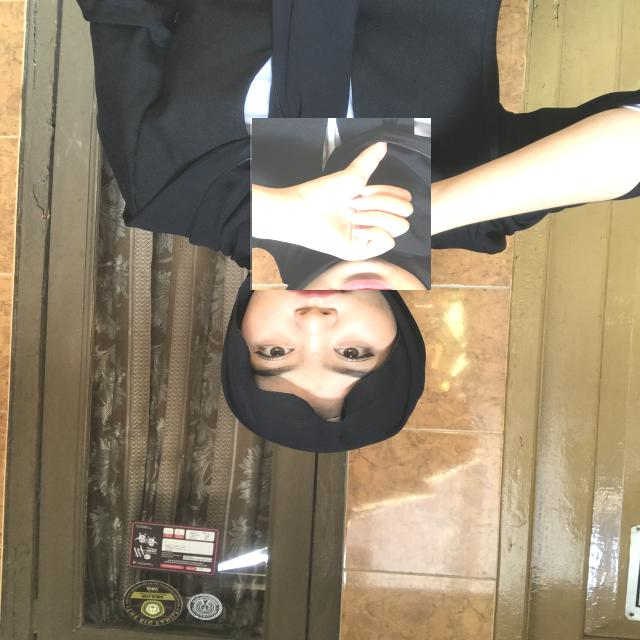sedih: (248, 118, 431, 290)
